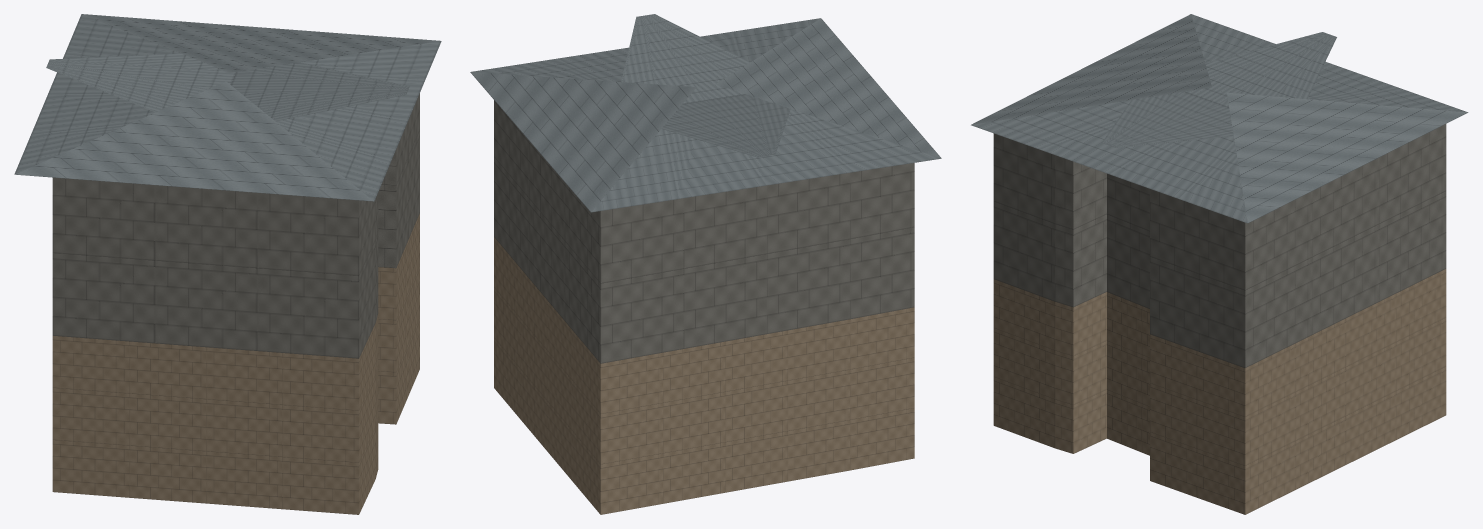
File: bld_c14_38_413.gltf
3 renders of one model, left to right at view 1: azimuth 30°, elevation 25°; view 2: azimuth 150°, elevation 25°; view 3: azimuth 270°, elevation 25°, orthographic. The views are drawn at different scales.
Parts seen in each view (by area): view 1: bld_c14_38_413; view 2: bld_c14_38_413; view 3: bld_c14_38_413.
Part boxes in pixels (left/top/right/bottom): bld_c14_38_413: left=14, top=14, right=441, bottom=514; bld_c14_38_413: left=470, top=14, right=941, bottom=514; bld_c14_38_413: left=971, top=14, right=1468, bottom=514.
Size of the model in its own units: 15.63 by 11.5 by 15.7.
Materials: 3 (3 with a texture image).
